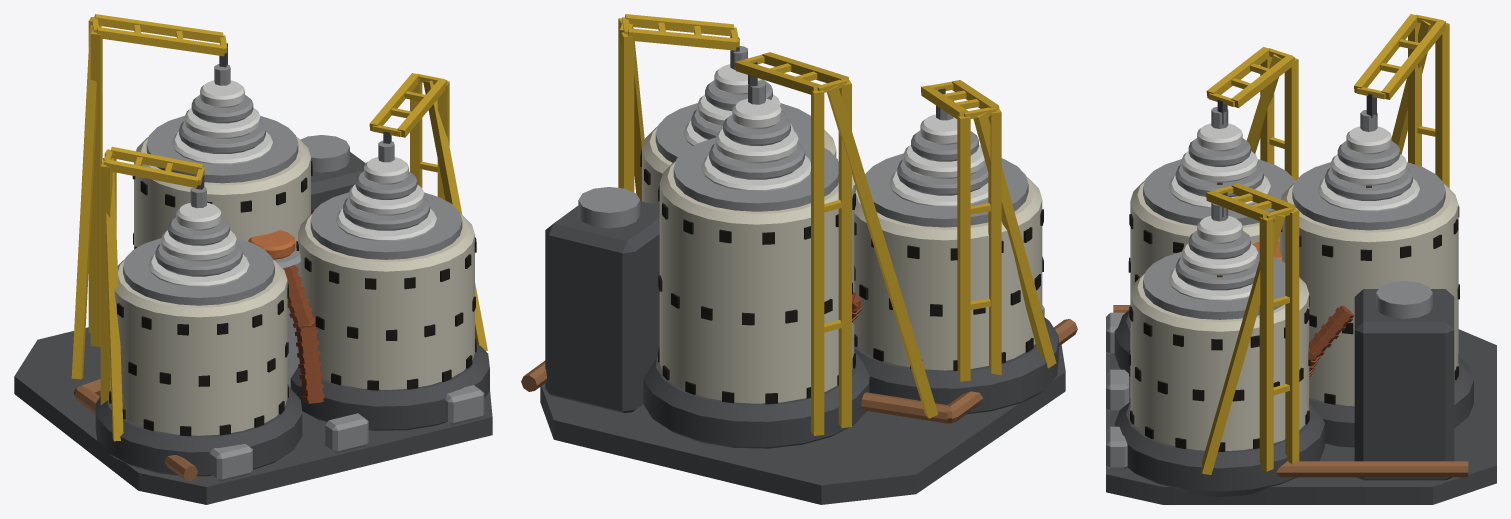
Rendered from centrifuge.glb.
3 renders of one model, left to right at view 1: azimuth 30°, elevation 25°; view 2: azimuth 150°, elevation 25°; view 3: azimuth 270°, elevation 25°, orthographic. The views are drawn at different scales.
Visible parts, largest first — view 1: body, anim_spin_rotor.002, anim_spin_rotor, anim_spin_rotor.001; view 2: body, anim_spin_rotor, anim_spin_rotor.001, anim_spin_rotor.002; view 3: body, anim_spin_rotor, anim_spin_rotor.002, anim_spin_rotor.001.
Boxes of the visible parts, <box> form: body: <box>14,14,492,504</box>; anim_spin_rotor.002: <box>336,140,436,241</box>; anim_spin_rotor: <box>172,64,273,164</box>; anim_spin_rotor.001: <box>148,187,249,286</box>; body: <box>521,14,1077,504</box>; anim_spin_rotor: <box>701,80,810,191</box>; anim_spin_rotor.001: <box>889,100,988,206</box>; anim_spin_rotor.002: <box>683,46,793,145</box>; body: <box>1106,14,1496,504</box>; anim_spin_rotor: <box>1318,110,1419,211</box>; anim_spin_rotor.002: <box>1168,202,1259,300</box>; anim_spin_rotor.001: <box>1168,107,1270,208</box>.
Bounding box in the file's own units: 3.07 × 2.78 × 2.75.
